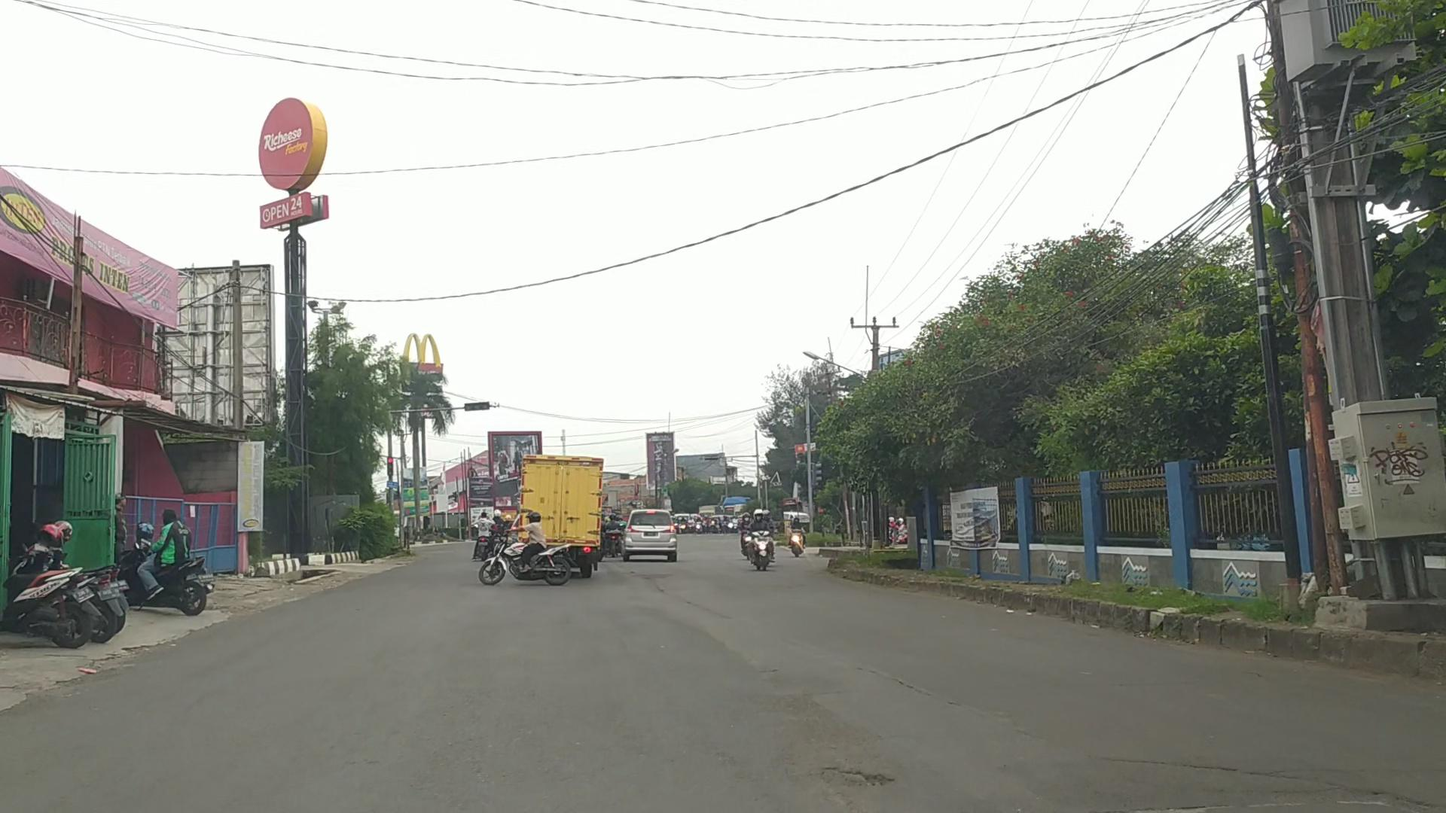pothole: (826, 767, 890, 786)
